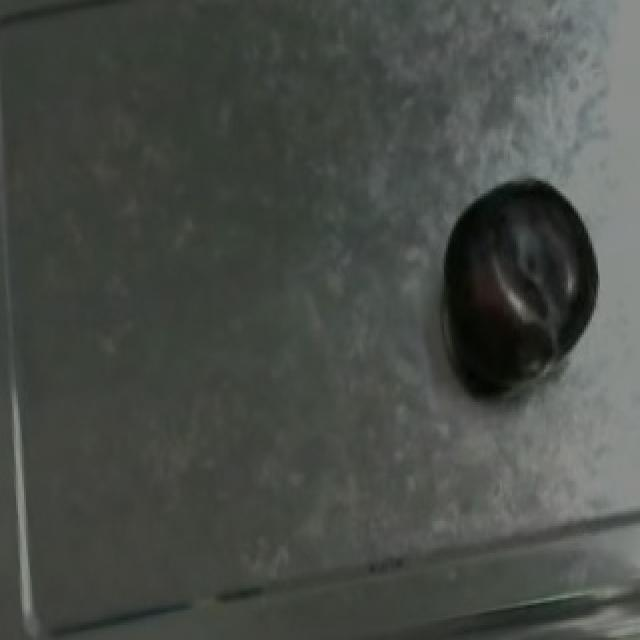Fruit: (428, 164, 618, 347)
